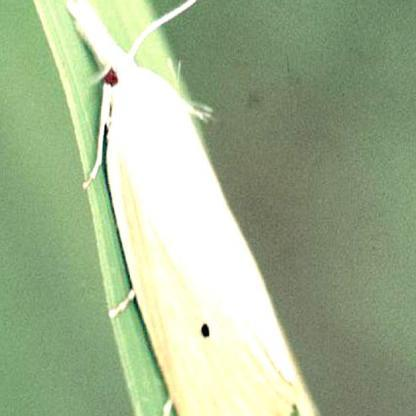stem-borer: (62, 0, 320, 416)
